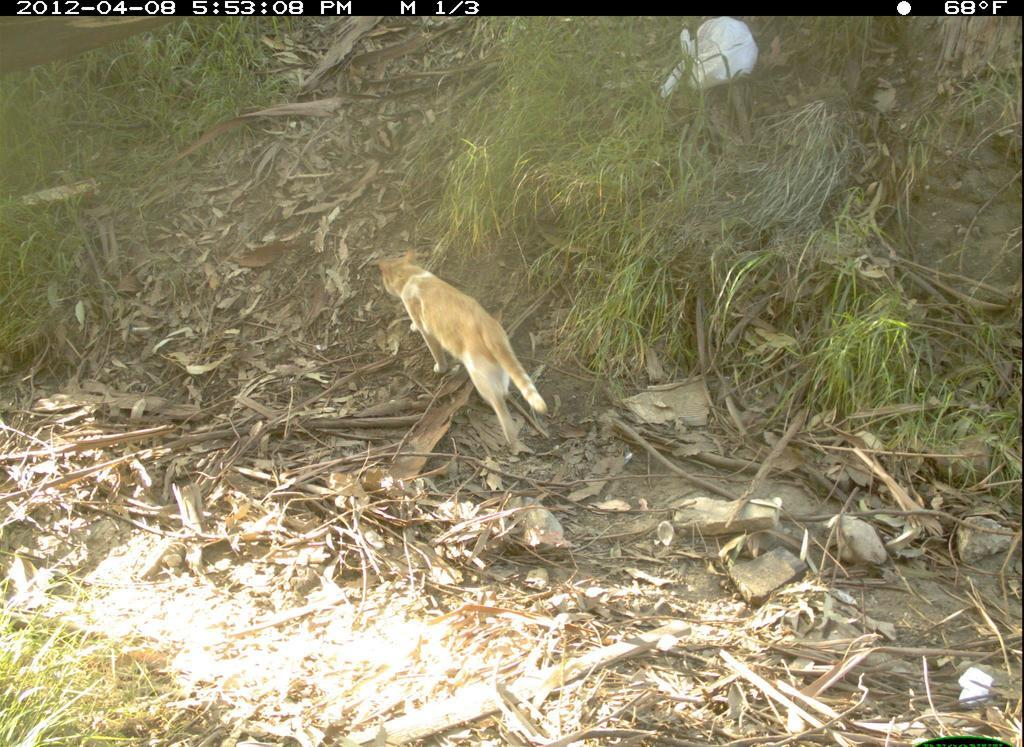cat: (372, 240, 562, 456)
